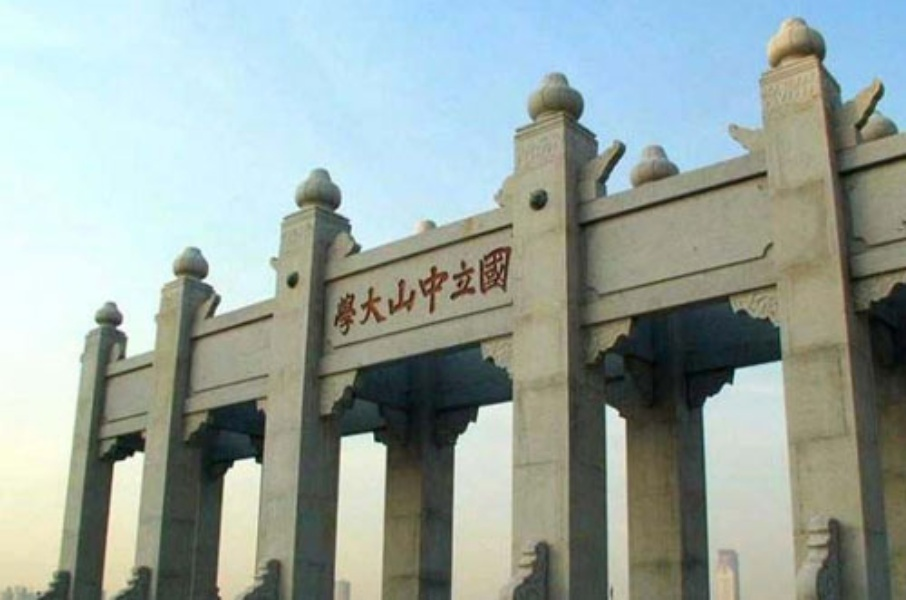text: (497, 242, 513, 341), (337, 242, 352, 341), (353, 242, 368, 341), (369, 242, 384, 341), (385, 242, 400, 341), (401, 242, 416, 341), (417, 242, 432, 341), (433, 242, 448, 341), (449, 242, 464, 341), (465, 242, 480, 341), (481, 242, 496, 341), (334, 242, 336, 341)
